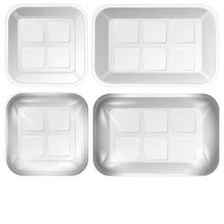foam_box: (89, 0, 224, 91), (89, 90, 224, 178), (2, 0, 89, 87), (3, 90, 89, 177)
